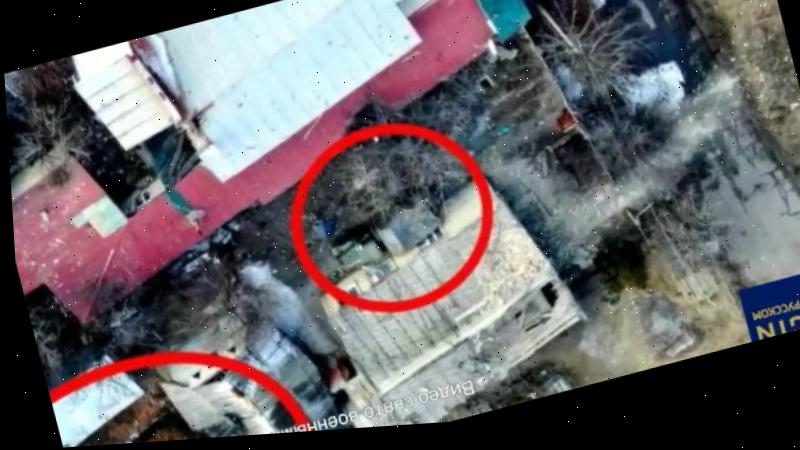truck: (318, 182, 452, 276)
